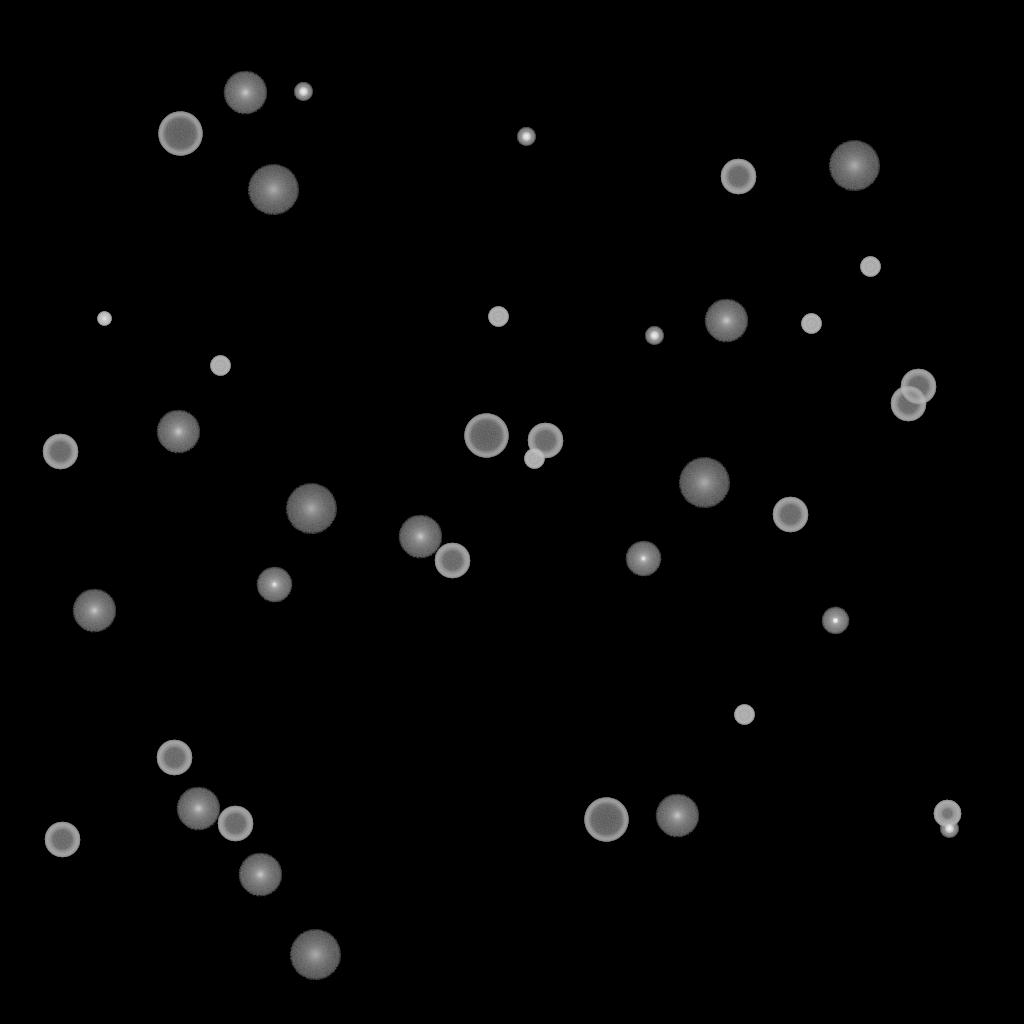depth:-10: (821, 607, 849, 635)
depth:-20: (294, 83, 312, 101), (940, 820, 958, 838), (517, 128, 535, 146), (645, 327, 663, 345)
depth:-30: (97, 312, 111, 326)
depth:-40: (801, 314, 821, 334), (210, 356, 230, 376), (860, 257, 880, 277), (488, 307, 508, 327), (734, 705, 754, 725), (524, 449, 544, 469)
depth:-50: (933, 800, 961, 828)
depth:-60: (527, 423, 563, 459), (434, 543, 470, 579), (720, 159, 756, 195), (42, 434, 78, 470), (44, 822, 80, 858), (217, 806, 253, 842), (890, 386, 926, 422), (772, 497, 808, 533), (900, 369, 936, 405), (156, 740, 192, 776)
depth:-70: (584, 798, 628, 842), (464, 414, 508, 458), (158, 112, 202, 156)
depth:0: (256, 567, 292, 603), (625, 541, 661, 577)
depth:10: (223, 71, 267, 115), (238, 853, 282, 897), (72, 589, 116, 633), (176, 787, 220, 831), (156, 410, 200, 454), (655, 794, 699, 838), (398, 515, 442, 559), (704, 299, 748, 343)
depth:20: (289, 930, 341, 980), (828, 141, 880, 191), (247, 165, 299, 215), (678, 458, 730, 508), (285, 484, 337, 534)
